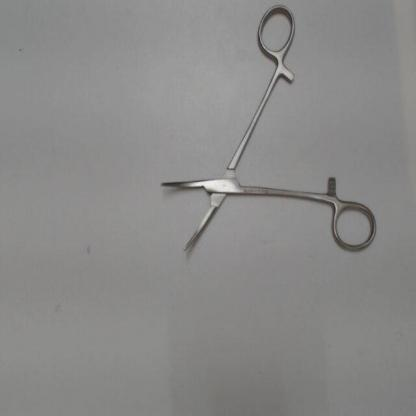Crile Artery Forceps: (155, 1, 380, 259)
